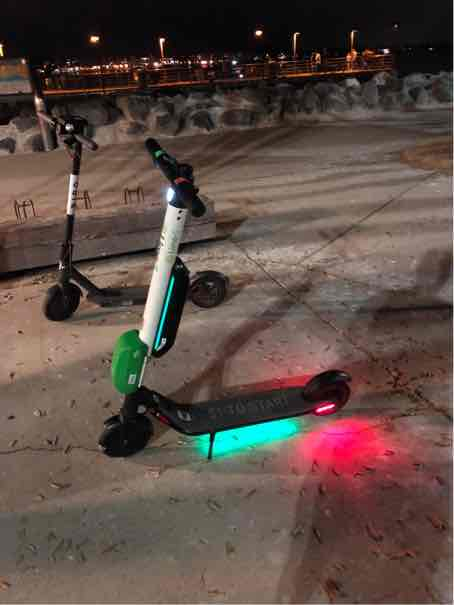scooter: (91, 134, 367, 470)
